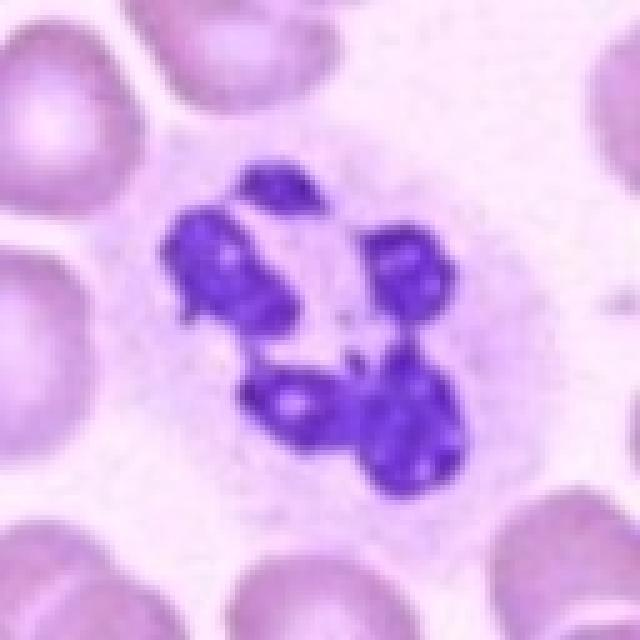neutro: (109, 119, 561, 520)
